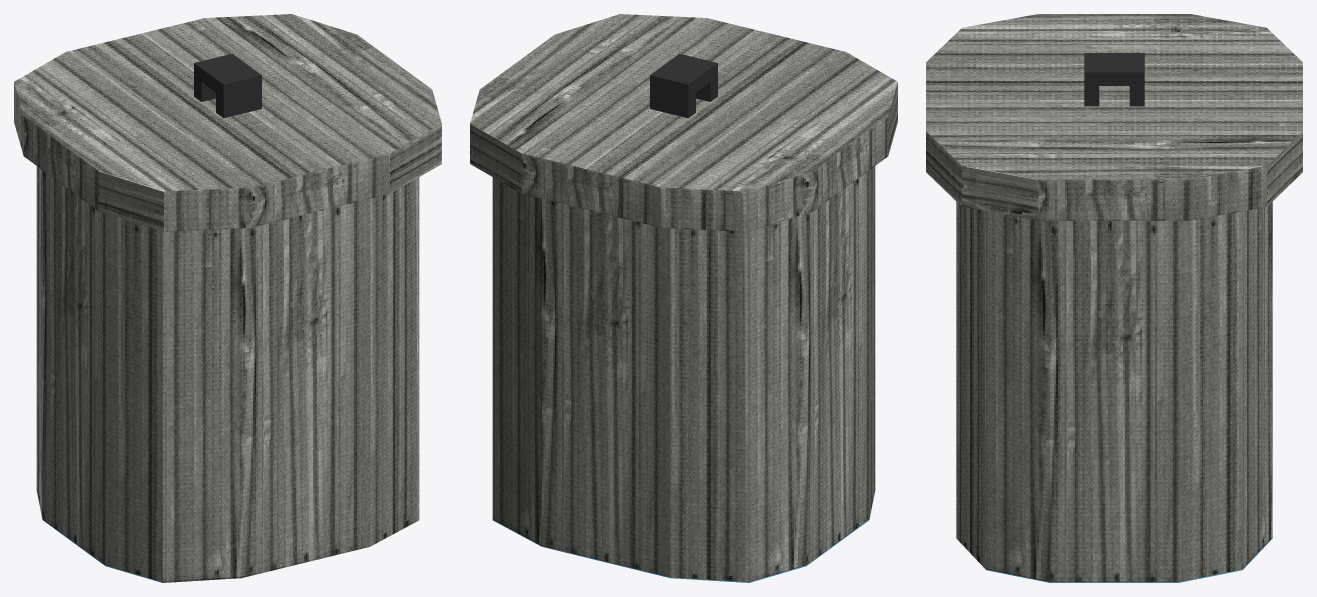
Rendered from trashbin.fbx.
3 renders of one model, left to right at view 1: azimuth 30°, elevation 25°; view 2: azimuth 150°, elevation 25°; view 3: azimuth 270°, elevation 25°, orthographic.
Visible parts, largest first — view 1: mesh, mesh_1, mesh_3, mesh_4; view 2: mesh, mesh_1, mesh_3, mesh_2; view 3: mesh, mesh_1, mesh_3.
Part boxes in pixels (x1=…): mesh: x1=36, y1=141, x2=419, y2=582; mesh_1: x1=14, y1=14, x2=441, y2=231; mesh_3: x1=194, y1=53, x2=261, y2=97; mesh_4: x1=216, y1=89, x2=261, y2=118; mesh: x1=492, y1=141, x2=875, y2=582; mesh_1: x1=470, y1=14, x2=897, y2=231; mesh_3: x1=650, y1=53, x2=717, y2=97; mesh_2: x1=650, y1=89, x2=695, y2=118; mesh: x1=956, y1=161, x2=1272, y2=582; mesh_1: x1=926, y1=14, x2=1302, y2=220; mesh_3: x1=1084, y1=53, x2=1144, y2=85.
Bounding box in the file's own units: 81.25 × 102 × 78.12.
Materials: 3 (3 with a texture image).
